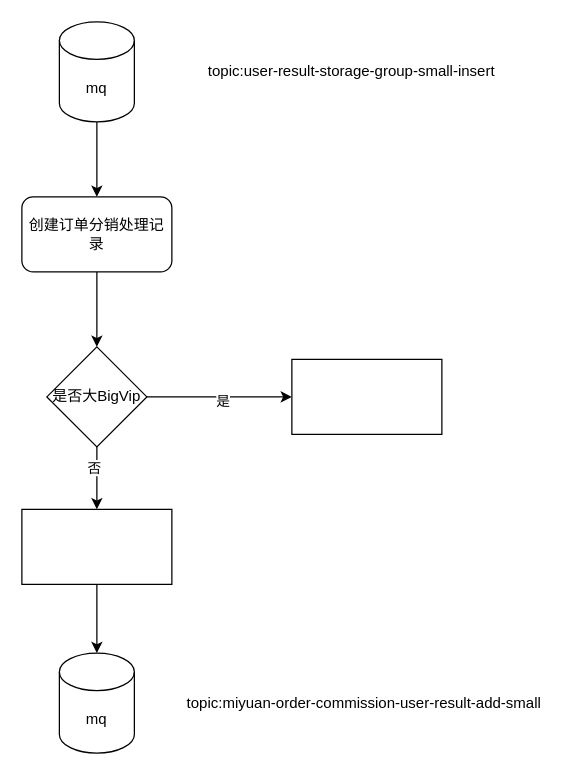
Some shapes in this 584 by 775 pixel diagram are drawn without their labels. Each missing label, with the box of its shape:
插入大v分佣表: (291, 358, 442, 434)
插入普通用户分佣结果表: (21, 508, 172, 584)
